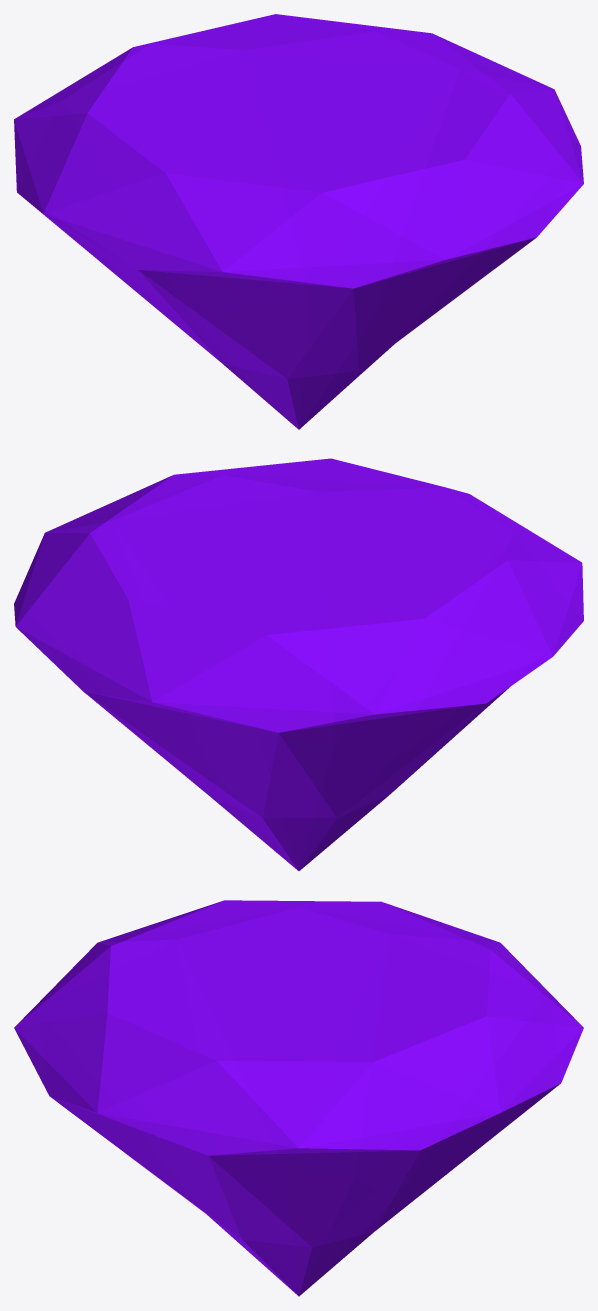
File: milestone.glb
3 views of the same model, one above another, from view 1: azimuth 30°, elevation 25°; view 2: azimuth 150°, elevation 25°; view 3: azimuth 270°, elevation 25° (orthographic). The views are drawn at different scales.
Visible parts, largest first — view 1: Cylinder_0_6; view 2: Cylinder_0_6; view 3: Cylinder_0_6.
Boxes of the visible parts, left/top/right/bottom form: Cylinder_0_6: left=14, top=14, right=583, bottom=429; Cylinder_0_6: left=14, top=458, right=583, bottom=870; Cylinder_0_6: left=14, top=900, right=583, bottom=1296.
Bounding box in the file's own units: 2 × 1.22 × 2.
